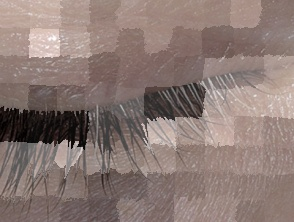vitiligo: (71, 50, 273, 168)
